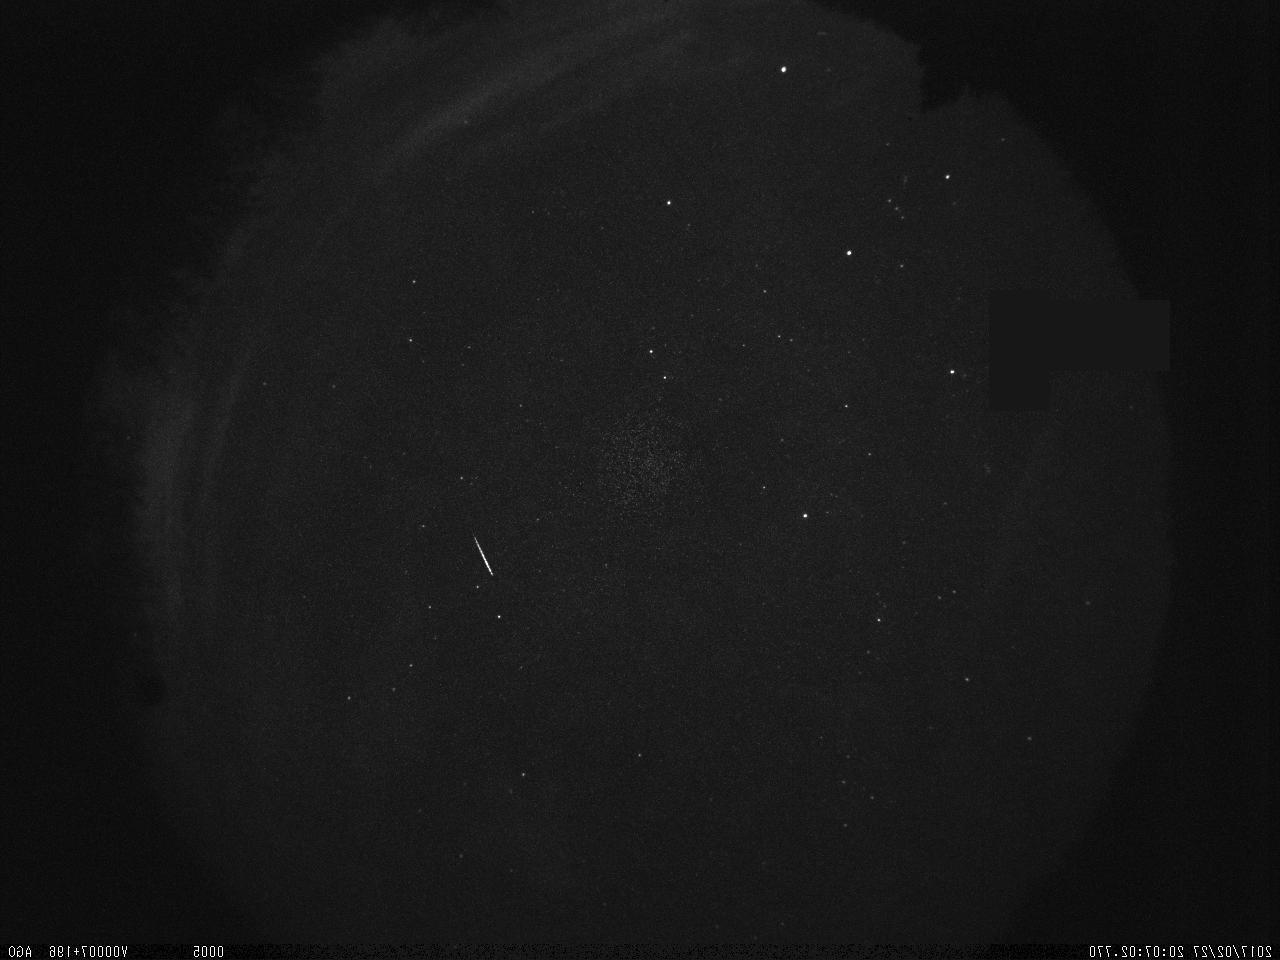meteor: (460, 514, 511, 588)
